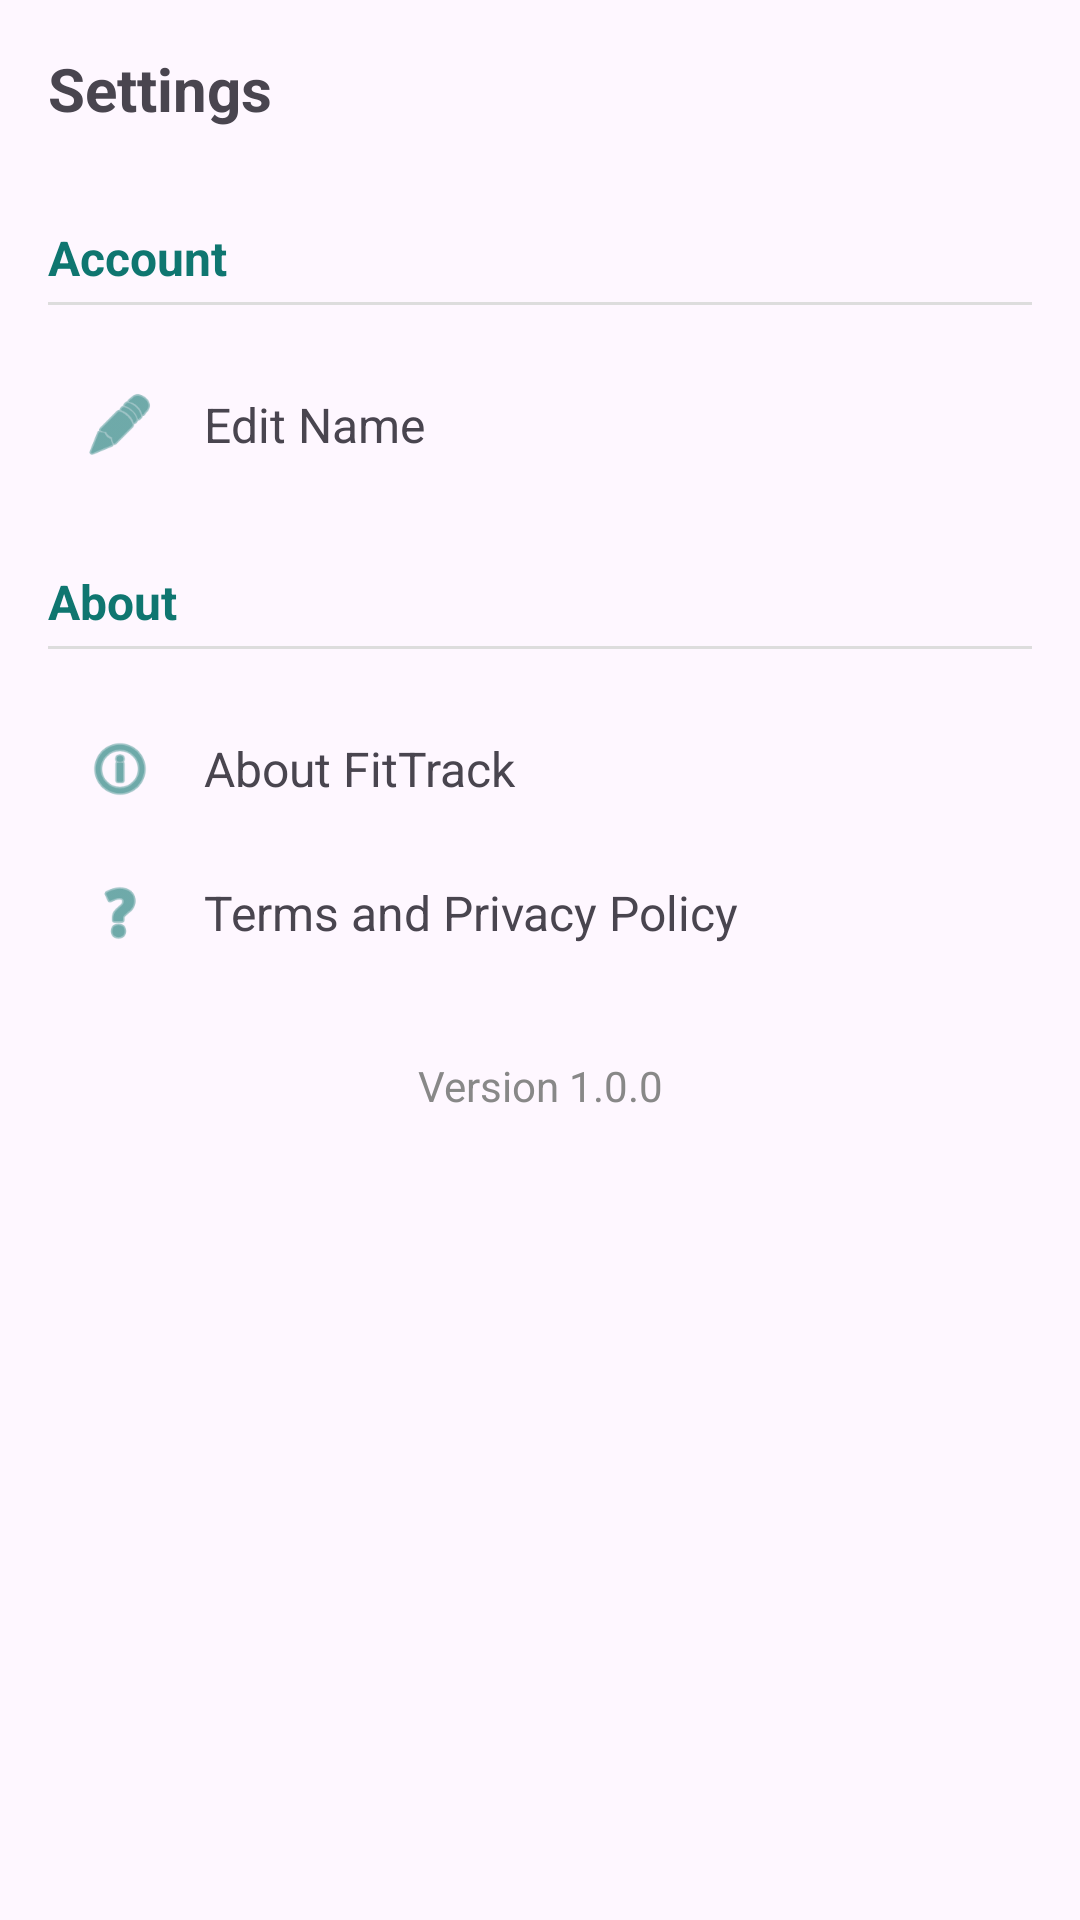

Screen size 1080×1920. Icon name, then its center in pixels as point (x, y):
help: point (120, 913)
info details: point (120, 769)
